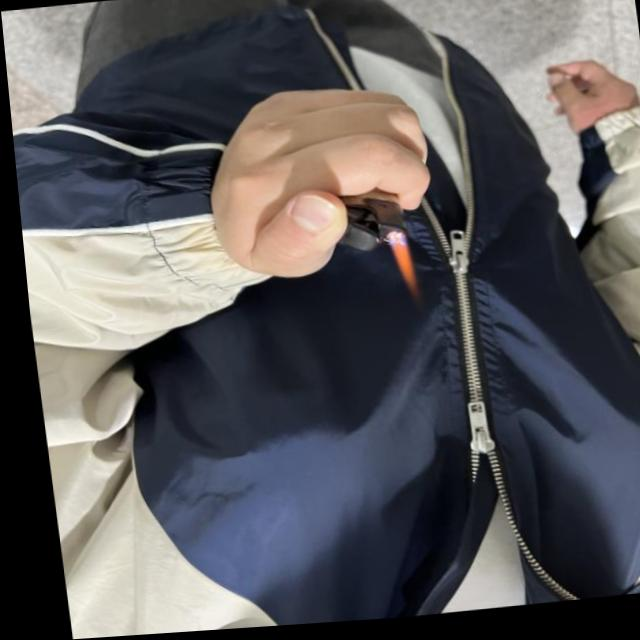Fire: (380, 241, 412, 295)
